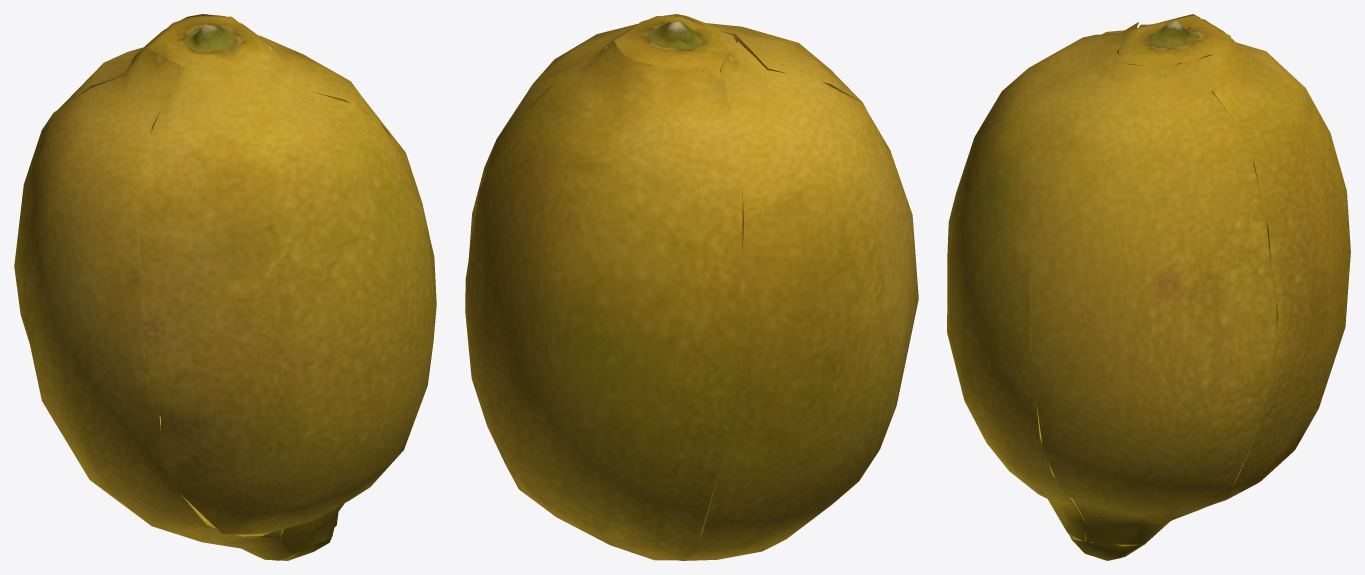
Rendered from lemon.glb.
3 views of the same model, side by side, from view 1: azimuth 30°, elevation 25°; view 2: azimuth 150°, elevation 25°; view 3: azimuth 270°, elevation 25° (orthographic). The views are drawn at different scales.
Parts seen in each view (by area): view 1: lemon; view 2: lemon; view 3: lemon.
Part boxes in pixels (bbox=[...]): lemon: bbox=[14, 14, 436, 560]; lemon: bbox=[465, 14, 918, 560]; lemon: bbox=[947, 14, 1350, 560].
Bounding box in the file's own units: 0.0687 × 0.0956 × 0.0681.
1 material, 1 textured.
